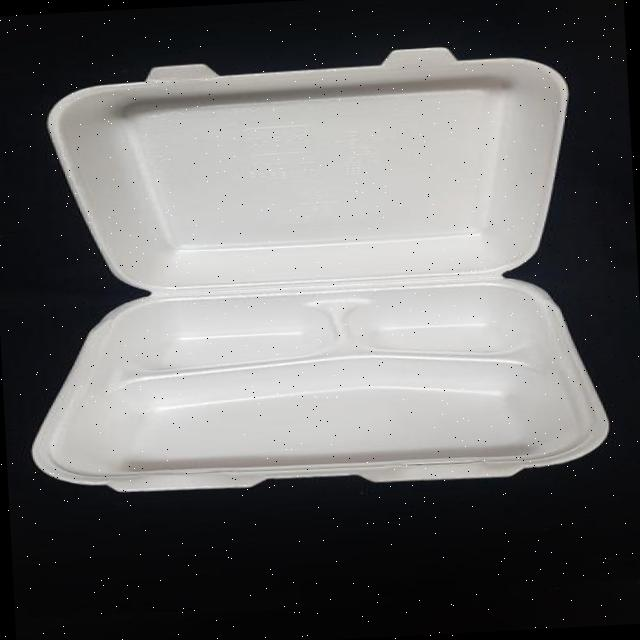styrofoam: (10, 38, 612, 502)
